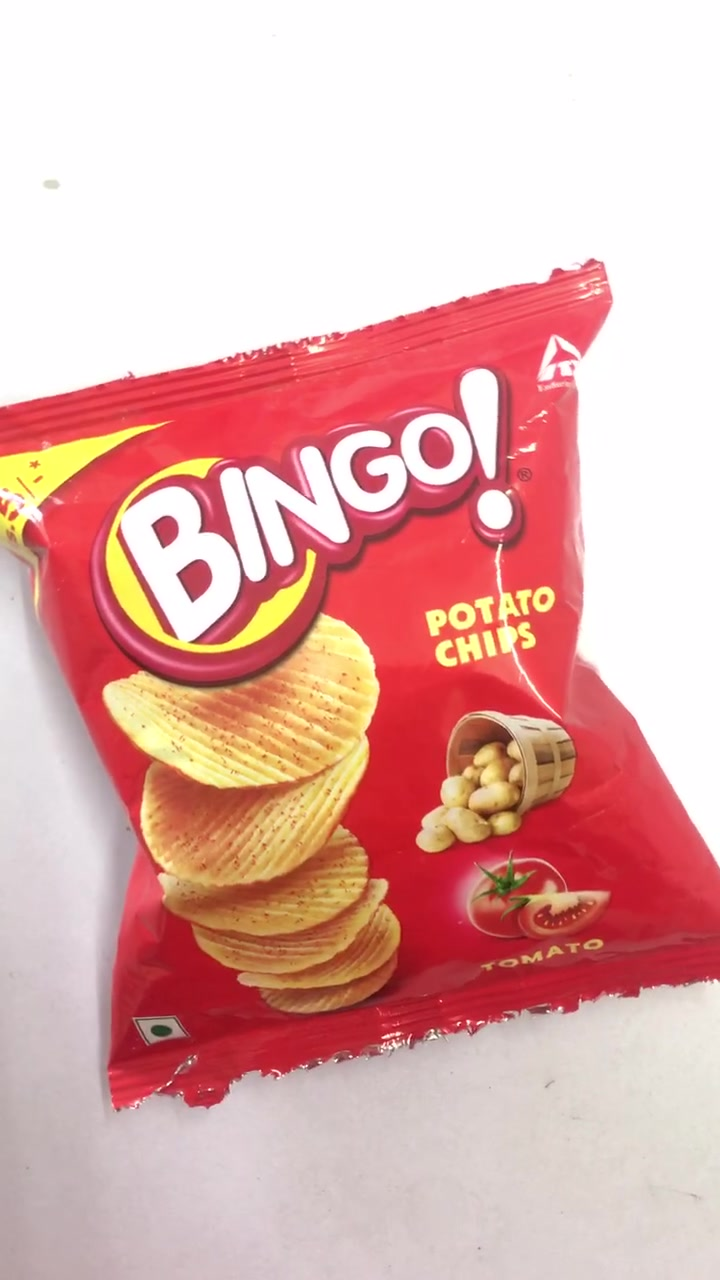Bingo: (1, 277, 720, 1081)
